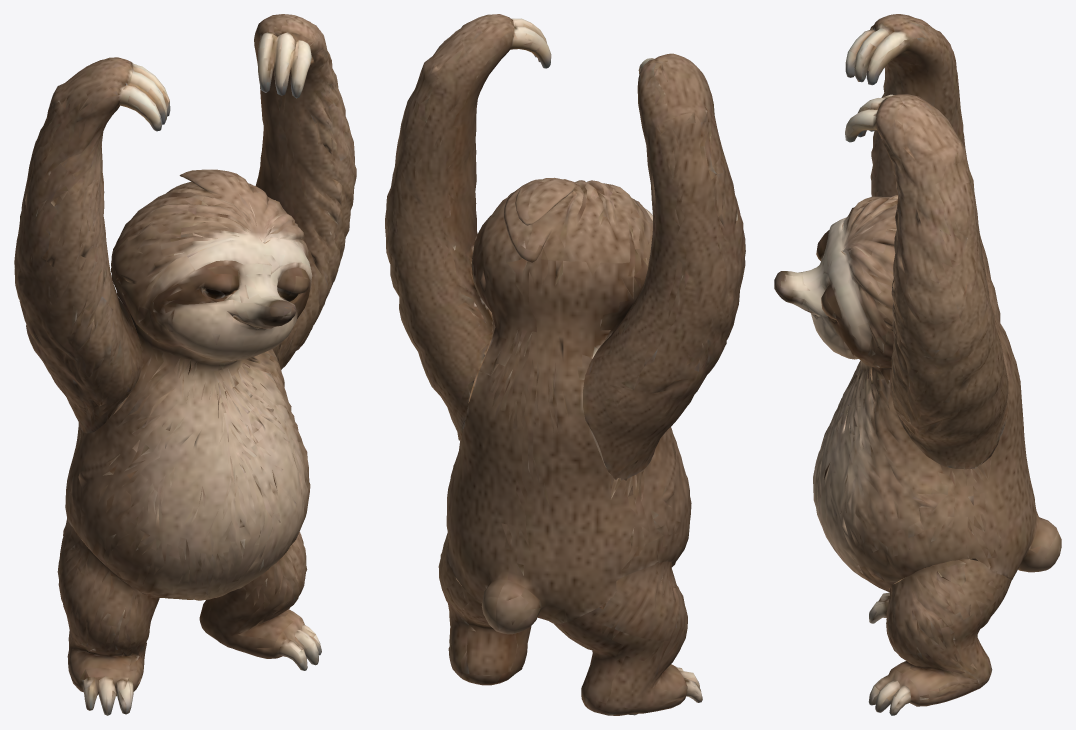
File: sloth_sleepy.glb
The picture shows the model from 3 angles, left to right: view 1: azimuth 30°, elevation 25°; view 2: azimuth 150°, elevation 25°; view 3: azimuth 270°, elevation 25°; orthographic projection. The views are drawn at different scales.
Parts seen in each view (by area): view 1: tripo_part_0, tripo_part_1, tripo_part_2, tripo_part_3, tripo_part_4; view 2: tripo_part_0, tripo_part_1, tripo_part_2, tripo_part_3, tripo_part_4; view 3: tripo_part_0, tripo_part_2, tripo_part_4, tripo_part_1.
Part boxes in pixels (<box>): tripo_part_0: <box>65,169,312,600</box>; tripo_part_1: <box>14,57,170,433</box>; tripo_part_2: <box>254,14,356,369</box>; tripo_part_3: <box>57,518,159,715</box>; tripo_part_4: <box>199,532,321,670</box>; tripo_part_0: <box>446,177,691,634</box>; tripo_part_1: <box>583,53,745,480</box>; tripo_part_2: <box>385,14,551,440</box>; tripo_part_3: <box>554,561,702,715</box>; tripo_part_4: <box>438,532,531,685</box>; tripo_part_0: <box>774,195,1061,592</box>; tripo_part_2: <box>845,94,1008,469</box>; tripo_part_4: <box>868,559,1011,715</box>; tripo_part_1: <box>845,14,1000,322</box>.
Bounding box in the file's own units: 0.5345 × 0.9774 × 0.419.
Materials: 1 (1 with a texture image).
